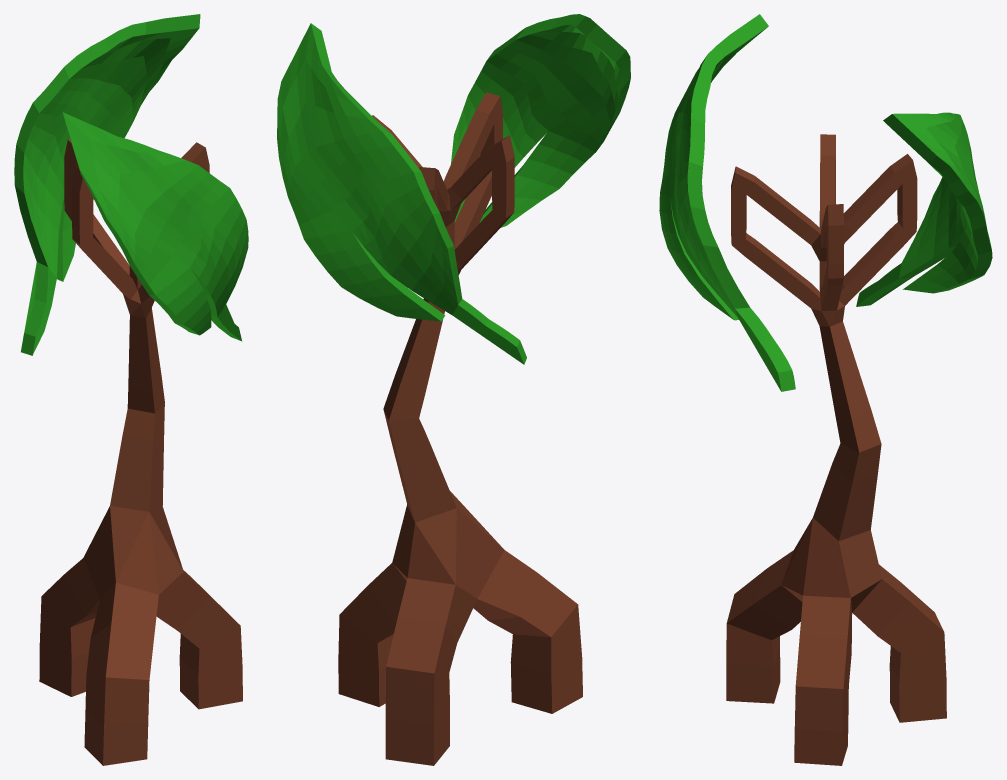
File: Grass_Tower.fbx
The picture shows the model from 3 angles, left to right: view 1: azimuth 30°, elevation 25°; view 2: azimuth 150°, elevation 25°; view 3: azimuth 270°, elevation 25°; orthographic projection. The views are drawn at different scales.
Visible parts, largest first — view 1: Grass_Tower, Leaves; view 2: Grass_Tower, Leaves; view 3: Grass_Tower, Leaves.
Boxes of the visible parts, x1,y1,x2,y2 form: Grass_Tower: (39,138,242,765); Leaves: (14,14,248,355); Grass_Tower: (338,92,582,765); Leaves: (277,14,630,364); Grass_Tower: (726,134,946,765); Leaves: (659,14,992,391).
Bounding box in the file's own units: 250 × 336 × 727.
